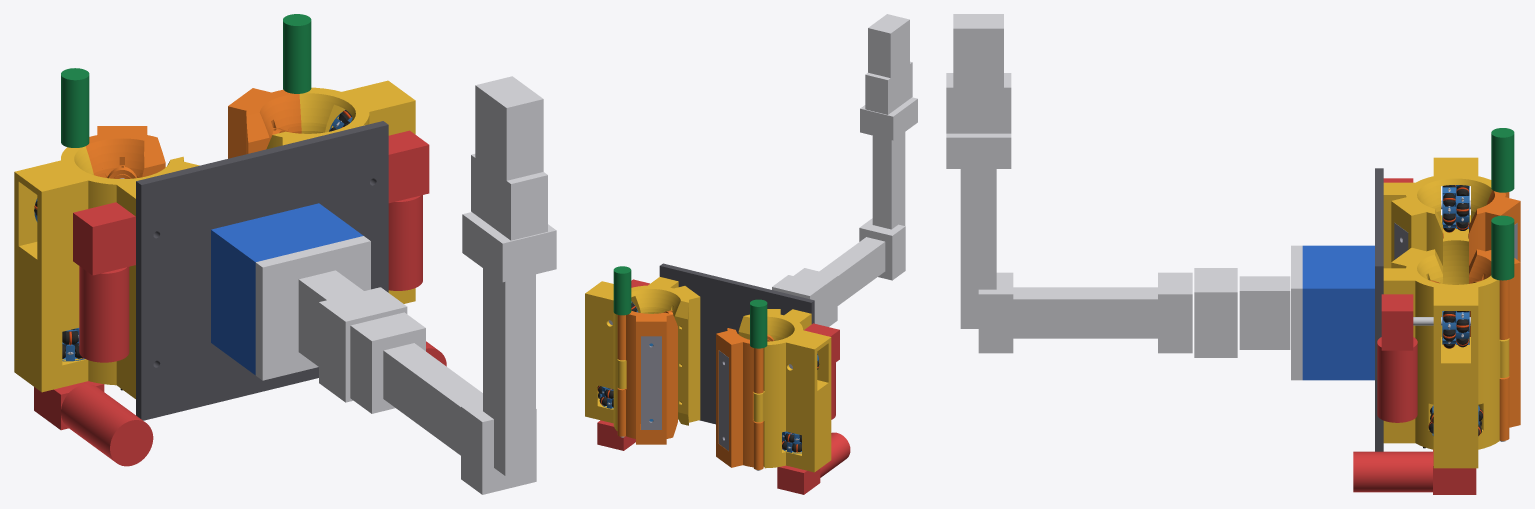
File: cart-assembly.glb
3 renders of one model, left to right at view 1: azimuth 30°, elevation 25°; view 2: azimuth 150°, elevation 25°; view 3: azimuth 270°, elevation 25°, orthographic. The views are drawn at different scales.
Visible parts, largest first — view 1: so101_arm_envelope, base_plate, hand_on_pipe_B_sleeve, battery, hand_on_pipe_C_sleeve, hand_on_pipe_B_roll_motor, hand_on_pipe_B_drive_motor, hand_on_pipe_B_drive_gearbox, hand_on_pipe_C_jaw, hand_on_pipe_B_jaw, hand_on_pipe_C_drive_motor, hand_on_pipe_C_drive_gearbox (+3 smaller); view 2: so101_arm_envelope, hand_on_pipe_B_sleeve, hand_on_pipe_C_sleeve, base_plate, hand_on_pipe_C_jaw, hand_on_pipe_B_jaw, hand_on_pipe_C_p60_cap, hand_on_pipe_B_p60_cap, hand_on_pipe_B_roll_gearbox, hand_on_pipe_C_roll_gearbox, hand_on_pipe_C_jaw_motor, hand_on_pipe_B_roll_motor (+2 smaller); view 3: so101_arm_envelope, hand_on_pipe_C_sleeve, battery, hand_on_pipe_B_sleeve, hand_on_pipe_C_jaw, hand_on_pipe_C_roll_motor, hand_on_pipe_C_drive_motor, base_plate, hand_on_pipe_B_jaw, hand_on_pipe_C_drive_gearbox, hand_on_pipe_C_roll_gearbox, hand_on_pipe_C_jaw_motor (+2 smaller).
Boxes of the visible parts, bbox=[...] form: so101_arm_envelope: bbox=[255, 76, 556, 494]; base_plate: bbox=[136, 121, 388, 420]; hand_on_pipe_B_sleeve: bbox=[14, 146, 199, 398]; battery: bbox=[211, 203, 363, 375]; hand_on_pipe_C_sleeve: bbox=[266, 80, 415, 303]; hand_on_pipe_B_roll_motor: bbox=[61, 384, 153, 466]; hand_on_pipe_B_drive_motor: bbox=[79, 266, 129, 362]; hand_on_pipe_B_drive_gearbox: bbox=[73, 202, 135, 275]; hand_on_pipe_C_jaw: bbox=[228, 88, 301, 158]; hand_on_pipe_B_jaw: bbox=[85, 126, 165, 177]; hand_on_pipe_C_drive_motor: bbox=[388, 195, 422, 290]; hand_on_pipe_C_drive_gearbox: bbox=[388, 130, 429, 203]; so101_arm_envelope: bbox=[772, 14, 917, 326]; hand_on_pipe_B_sleeve: bbox=[738, 309, 831, 472]; hand_on_pipe_C_sleeve: bbox=[585, 277, 700, 430]; base_plate: bbox=[659, 263, 814, 424]; hand_on_pipe_C_jaw: bbox=[617, 310, 677, 444]; hand_on_pipe_B_jaw: bbox=[716, 328, 763, 469]; hand_on_pipe_C_p60_cap: bbox=[641, 336, 661, 429]; hand_on_pipe_B_p60_cap: bbox=[718, 350, 728, 450]; hand_on_pipe_B_roll_gearbox: bbox=[777, 465, 820, 494]; hand_on_pipe_C_roll_gearbox: bbox=[597, 420, 635, 450]; hand_on_pipe_C_jaw_motor: bbox=[613, 266, 631, 303]; hand_on_pipe_B_roll_motor: bbox=[820, 432, 850, 477]; so101_arm_envelope: bbox=[946, 14, 1302, 380]; hand_on_pipe_C_sleeve: bbox=[1383, 247, 1509, 468]; battery: bbox=[1302, 245, 1374, 380]; hand_on_pipe_B_sleeve: bbox=[1383, 157, 1492, 284]; hand_on_pipe_C_jaw: bbox=[1469, 249, 1520, 440]; hand_on_pipe_C_roll_motor: bbox=[1353, 451, 1432, 492]; hand_on_pipe_C_drive_motor: bbox=[1377, 337, 1417, 422]; base_plate: bbox=[1375, 168, 1383, 451]; hand_on_pipe_B_jaw: bbox=[1469, 190, 1520, 265]; hand_on_pipe_C_drive_gearbox: bbox=[1381, 294, 1413, 350]; hand_on_pipe_C_roll_gearbox: bbox=[1433, 449, 1476, 494]; hand_on_pipe_C_jaw_motor: bbox=[1491, 215, 1514, 264].
Bounding box in the file's own units: 242 × 314 × 397.
